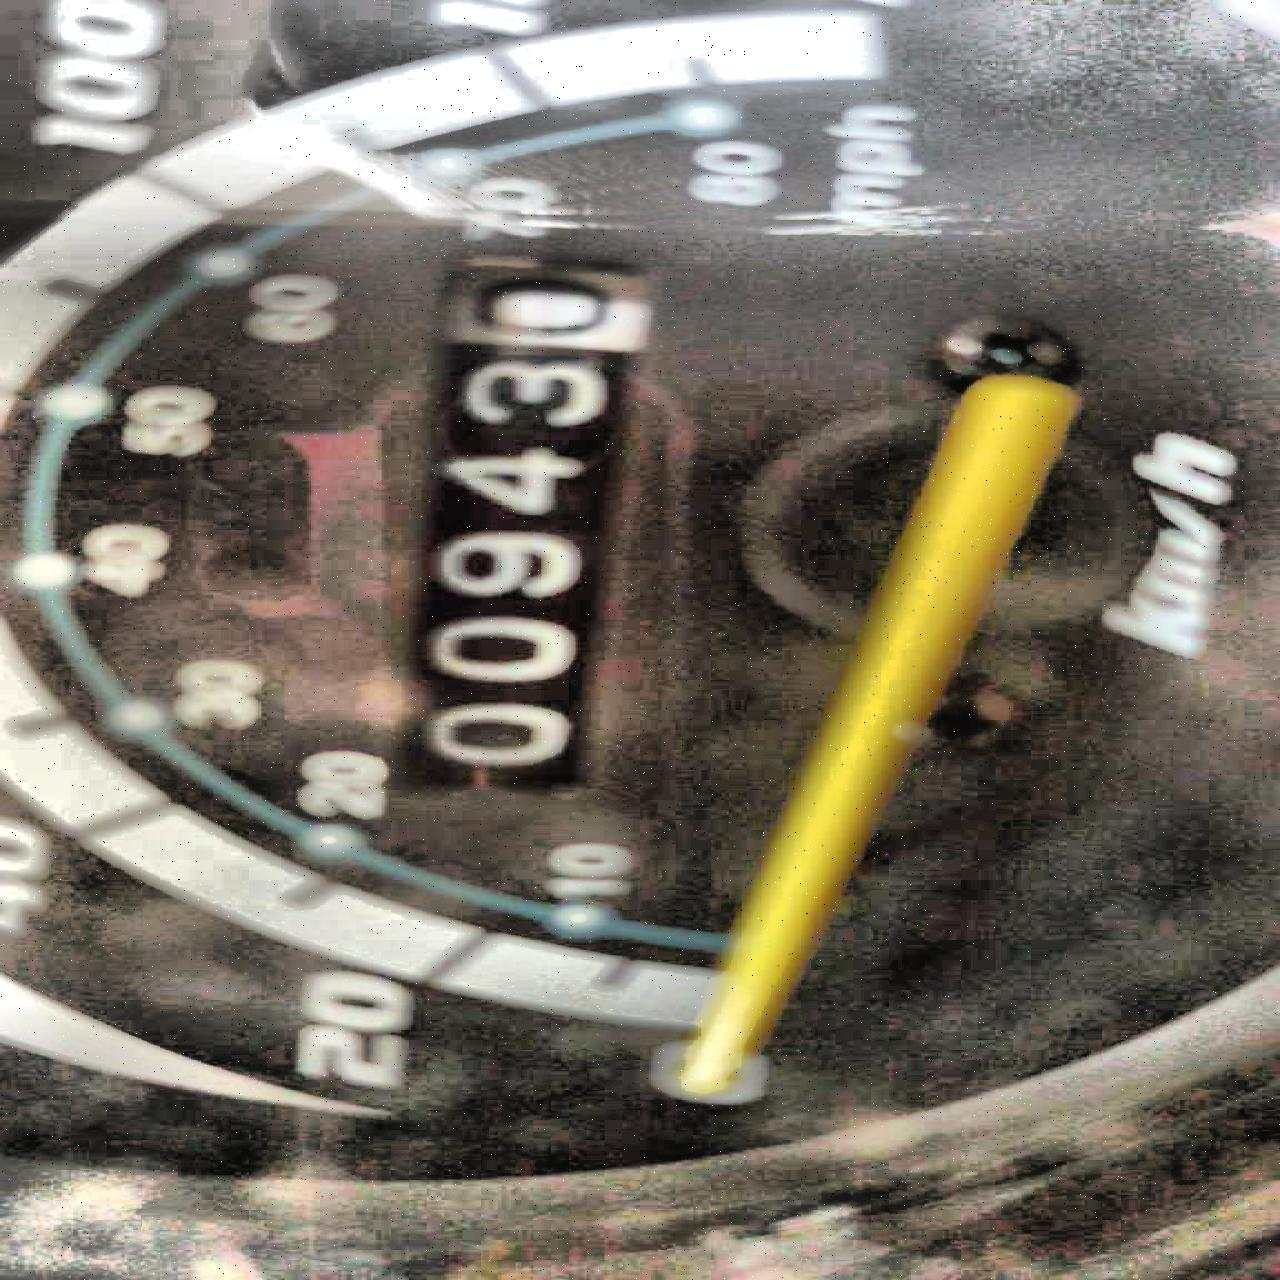0: (413, 613, 591, 682), (417, 702, 576, 767), (464, 278, 628, 340)
3: (449, 355, 618, 425)
4: (431, 449, 591, 510)
9: (422, 526, 587, 598)
odometer: (372, 243, 667, 797)
